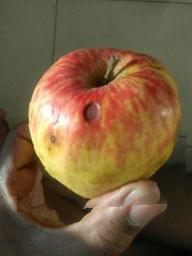Apple Semirotten: (17, 46, 192, 213)
